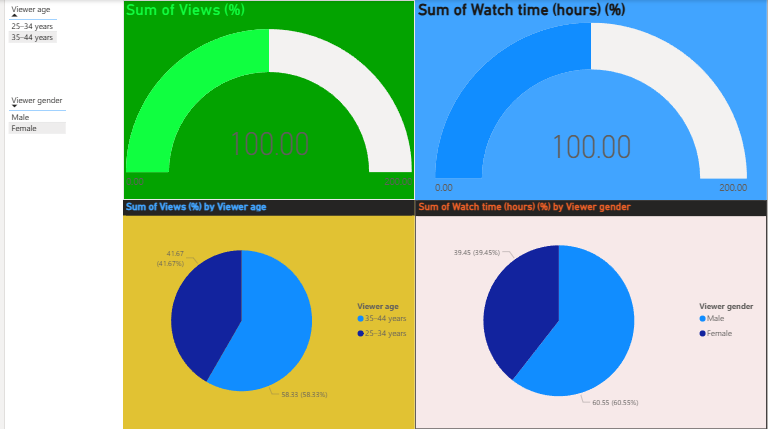

The dashboard page shown, as its layout file describes it:
{"tool":"powerbi","page":{"name":"Page 1","canvas":[1280,720],"ordinal":0},"visuals":[{"type":"gauge","fields":{"Y":["Sum(Table data.Views (%))"]},"box":[198.2,0,490.5,336],"z":0},{"type":"gauge","fields":{"Y":["Sum(Table data.Watch time (hours) (%))"]},"box":[688.7,0,591.3,336],"z":1000},{"type":"tableEx","fields":{"Values":["Table data.Viewer age"]},"box":[0,0,198.2,110.9],"z":2000},{"type":"tableEx","fields":{"Values":["Table data.Viewer gender"]},"box":[0,152.9,198.2,567.8],"z":3000},{"type":"pieChart","fields":{"Category":["Table data.Viewer age"],"Y":["Sum(Table data.Views (%))"]},"box":[198.2,336,490.5,384.7],"z":3001},{"type":"pieChart","fields":{"Y":["Sum(Table data.Watch time (hours) (%))"],"Category":["Table data.Viewer gender"]},"box":[688.7,336,591.3,384.7],"z":3002}]}

Visuals, with their boxes in screenshot pixels (x1, y1, x2, y2), scaled from the page's 1280x720 canvas onto the 768x429 screenshot:
gauge - Sum(Table data.Views (%)): {"left": 119, "top": 0, "right": 413, "bottom": 200}
gauge - Sum(Table data.Watch time (hours) (%)): {"left": 413, "top": 0, "right": 767, "bottom": 200}
tableEx - Table data.Viewer age: {"left": 0, "top": 0, "right": 119, "bottom": 66}
tableEx - Table data.Viewer gender: {"left": 0, "top": 91, "right": 119, "bottom": 428}
pieChart - Table data.Viewer age x Sum(Table data.Views (%)): {"left": 119, "top": 200, "right": 413, "bottom": 428}
pieChart - Sum(Table data.Watch time (hours) (%)) x Table data.Viewer gender: {"left": 413, "top": 200, "right": 767, "bottom": 428}
